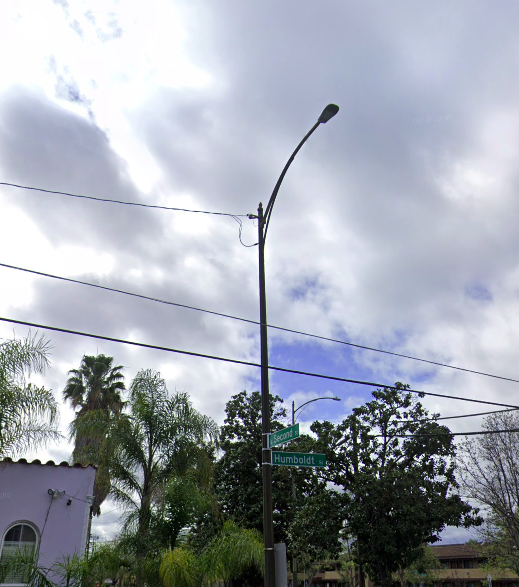pole: (230, 96, 345, 308)
